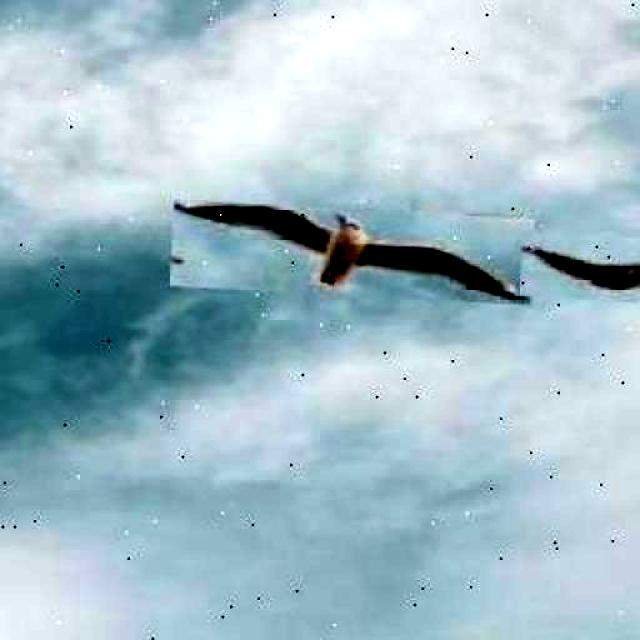airplane: (170, 201, 536, 305), (520, 232, 640, 314)
